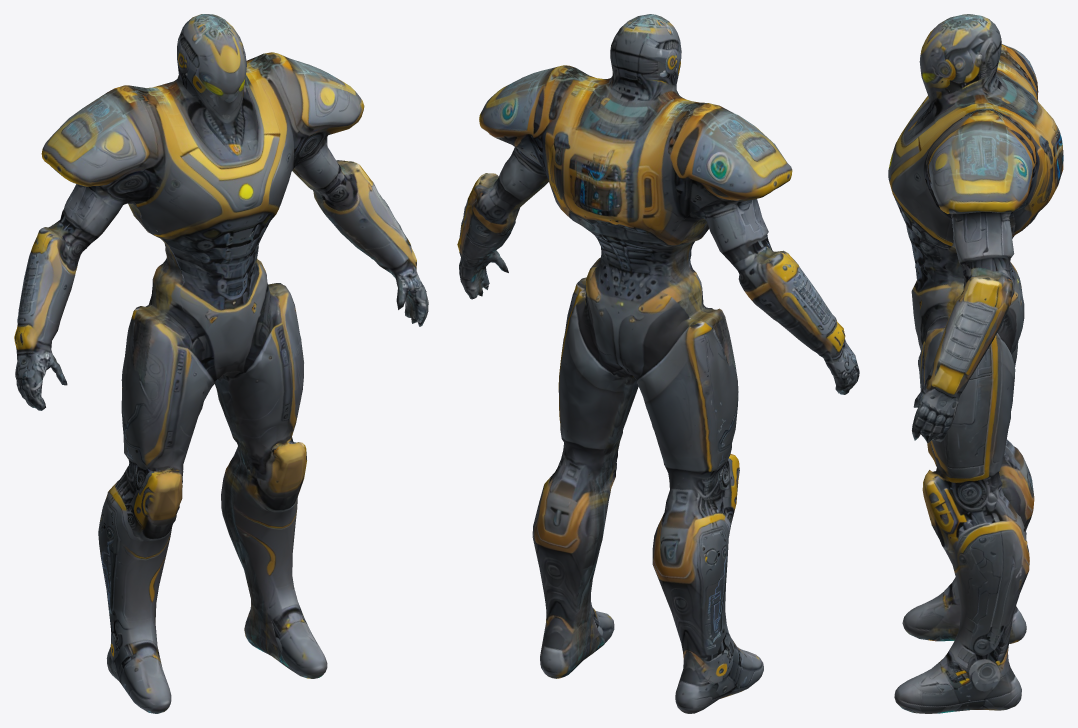
Rendered from robot___fbx.fbx.
3 views of the same model, side by side, from view 1: azimuth 30°, elevation 25°; view 2: azimuth 150°, elevation 25°; view 3: azimuth 270°, elevation 25° (orthographic).
Visible parts, largest first — view 1: Mesh_0; view 2: Mesh_0; view 3: Mesh_0.
Boxes of the visible parts, x1,y1,x2,y2 form: Mesh_0: (14, 14, 428, 713); Mesh_0: (457, 14, 859, 713); Mesh_0: (888, 14, 1063, 713).
Size of the model in its own units: 75.45 by 120 by 28.86.
1 material, 1 textured.
